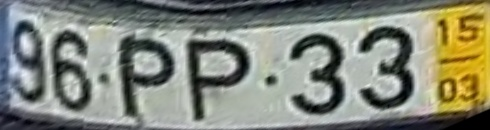3: (357, 23, 417, 111), (287, 28, 346, 117)
6: (49, 28, 93, 113)
9: (10, 17, 46, 106)
P: (184, 38, 253, 124), (116, 36, 179, 121)
